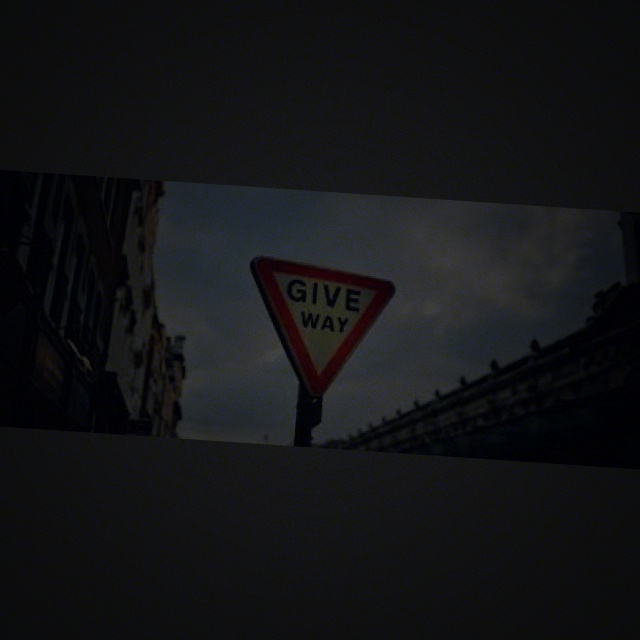Give_Way: (253, 255, 395, 399)
